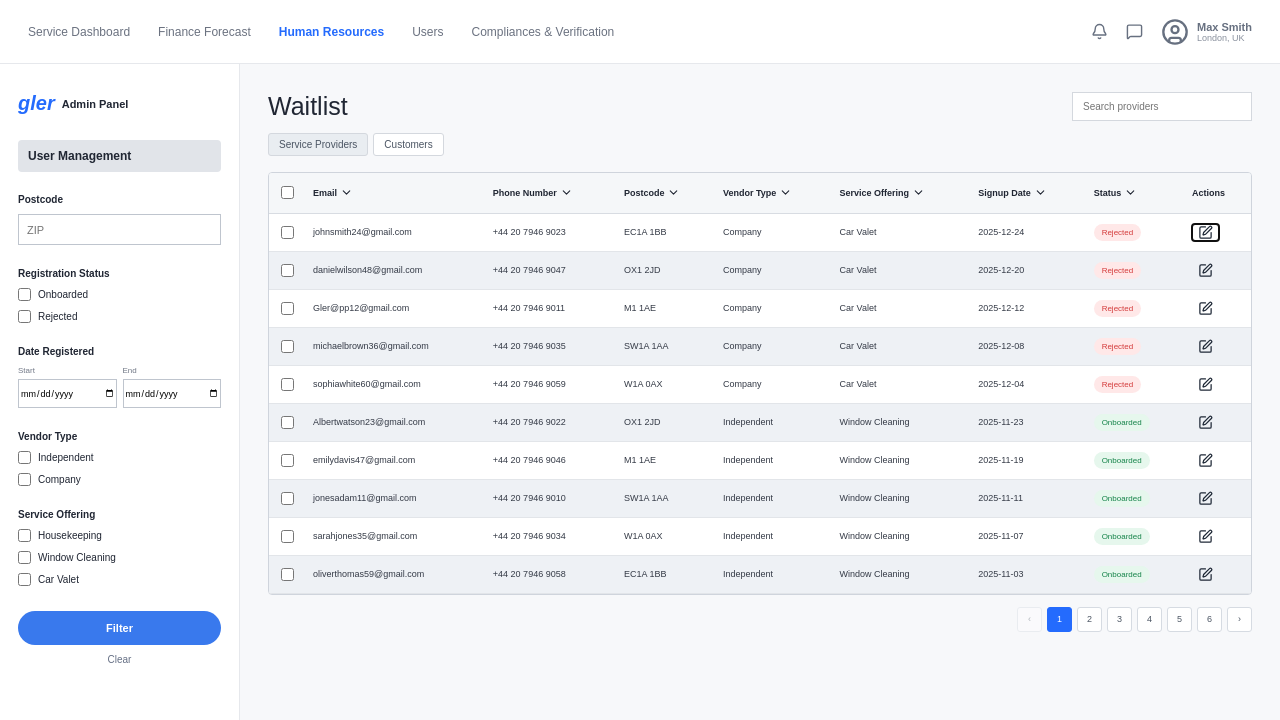
Test: waitlist dashboard › opens a modal, moves focus into it, and closes on Escape
The width and height of the screenshot is (1280, 720).
Click the button named "View details for johnsmith24@gmail.com" at (1206, 232), box [1192,224,1219,240]
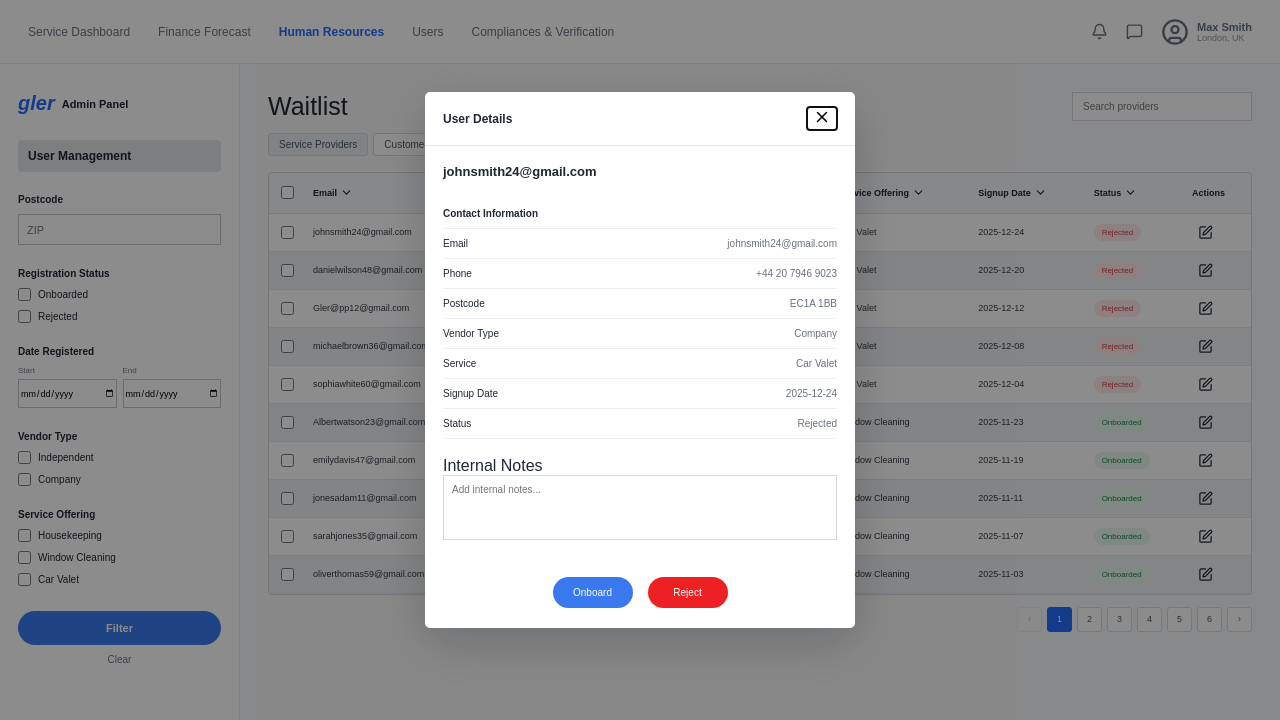
Check: the dialog is shown, box [425,92,855,628]
Press Escape
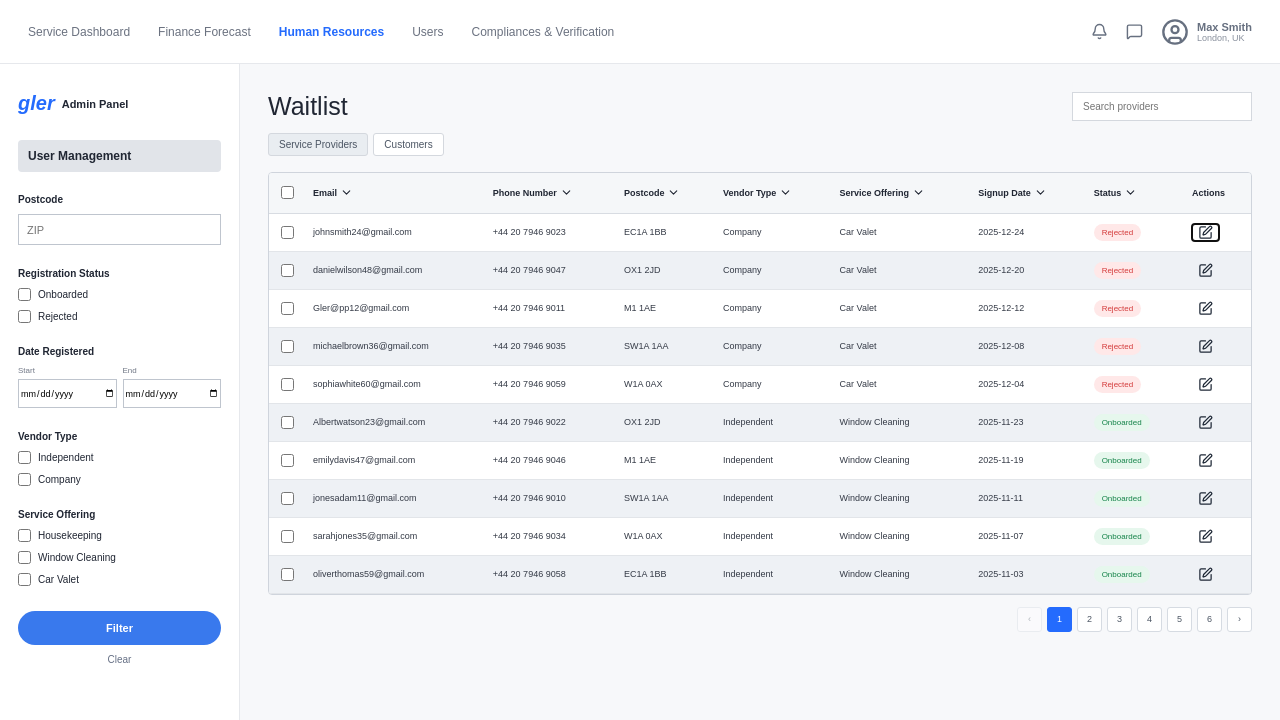
Check: the dialog is gone
